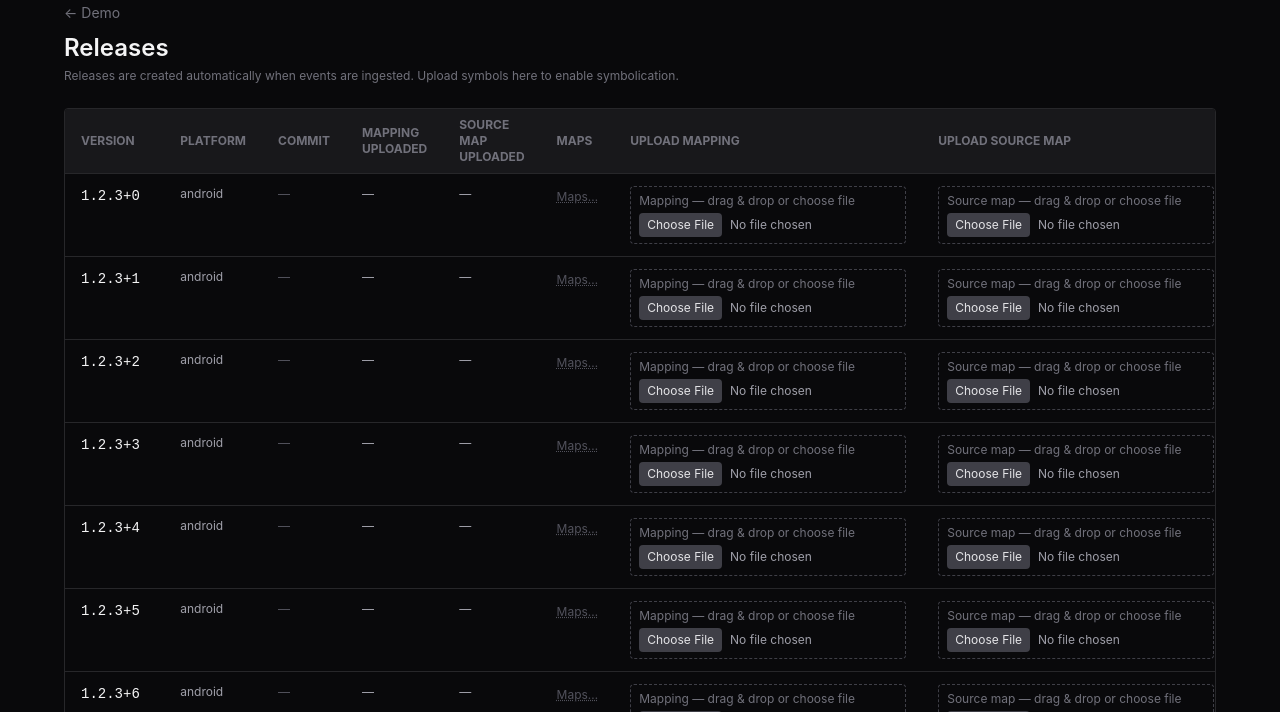
Test case: Releases map counts (v0.4 item 2: GET /api/releases/:id/symbols) › a long list (> threshold) does not fetch on mount, only on hover of a row
Step 1. Hover over the 1st button "Maps…" → (577, 197), box top-left (557, 189), bottom-right (598, 205)
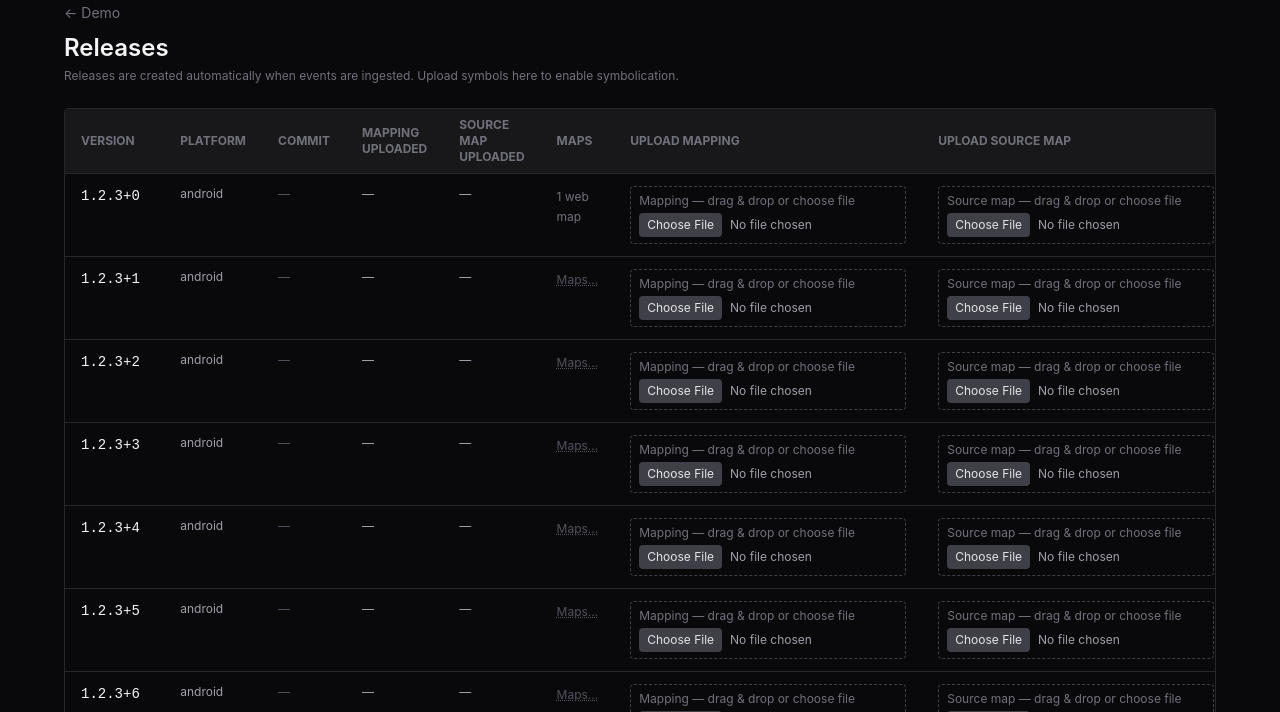
Check: the text "1 web map" is shown, box top-left (557, 189), bottom-right (589, 224)
